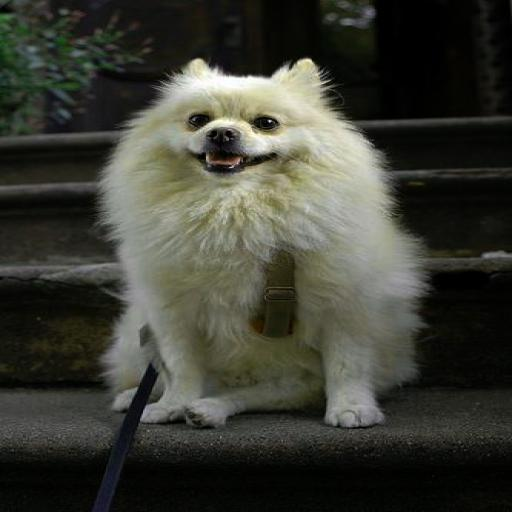dog_face: (153, 59, 331, 175)
